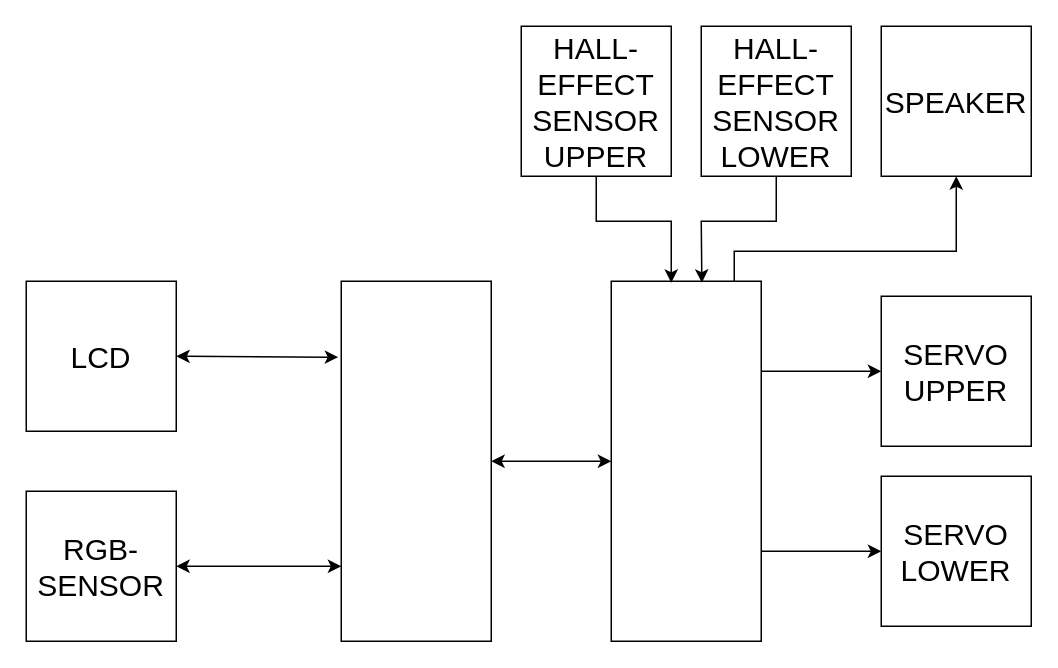
Image size: 1058x668. Some labels were removed from this diagram. Here are the shapes that lost their labels. From the top down, the centre of each, then its label:
At (415,460): "MASTER".
At (685,460): "SLAVE".
